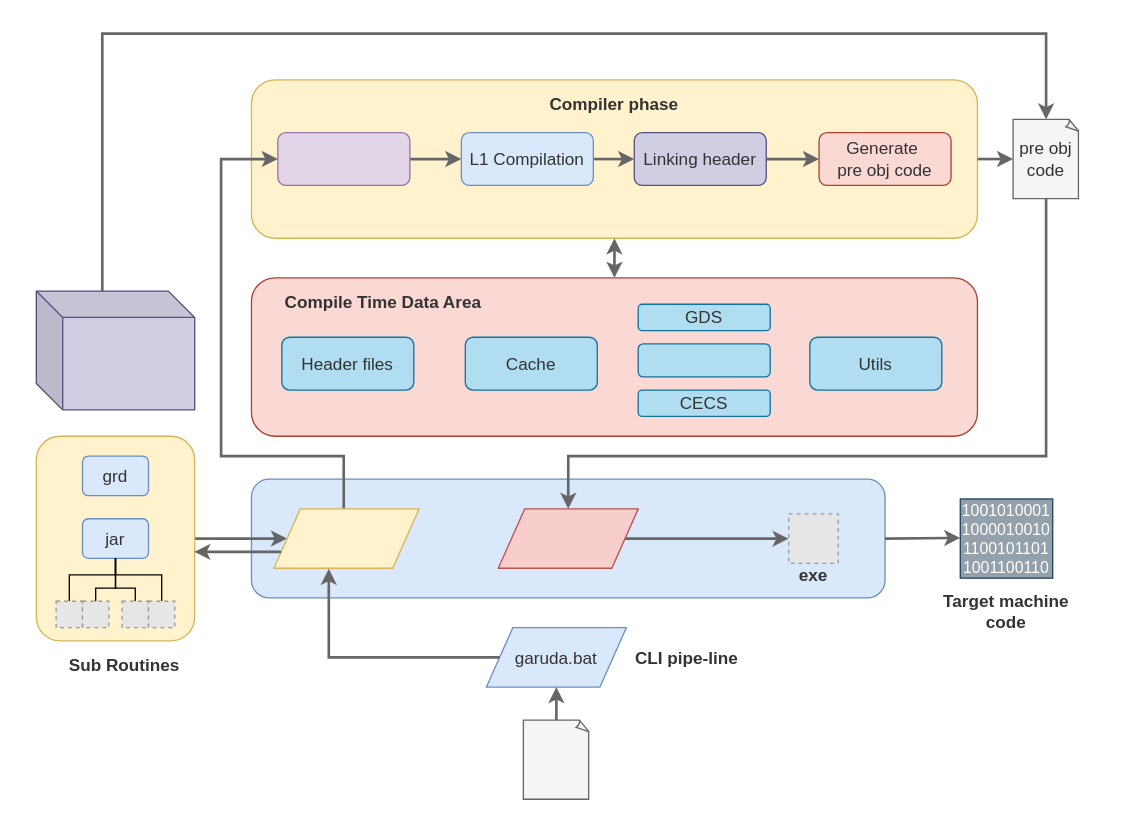
Some shapes in this 1130 by 822 pixel diagram are drawn without their labels. Grey dashed boxes stand in for pictures. The shapes that lost their labels are listed below. From the top down, each one's centre as x and y in pixels, then its label:
(x=343, y=158): Program Loader
(x=115, y=350): Libraries
(x=703, y=360): MPIS
(x=346, y=538): compiler.class
(x=567, y=538): gcc engine
(x=555, y=759): *.grd
